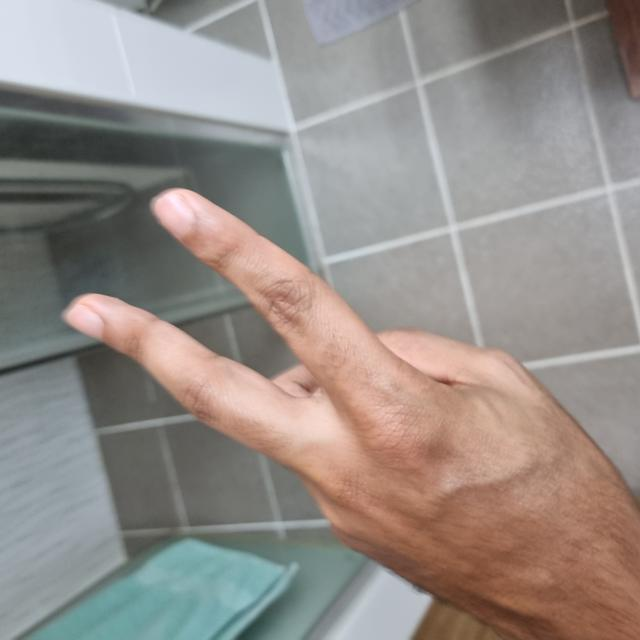Scissors: (0, 65, 447, 639)
